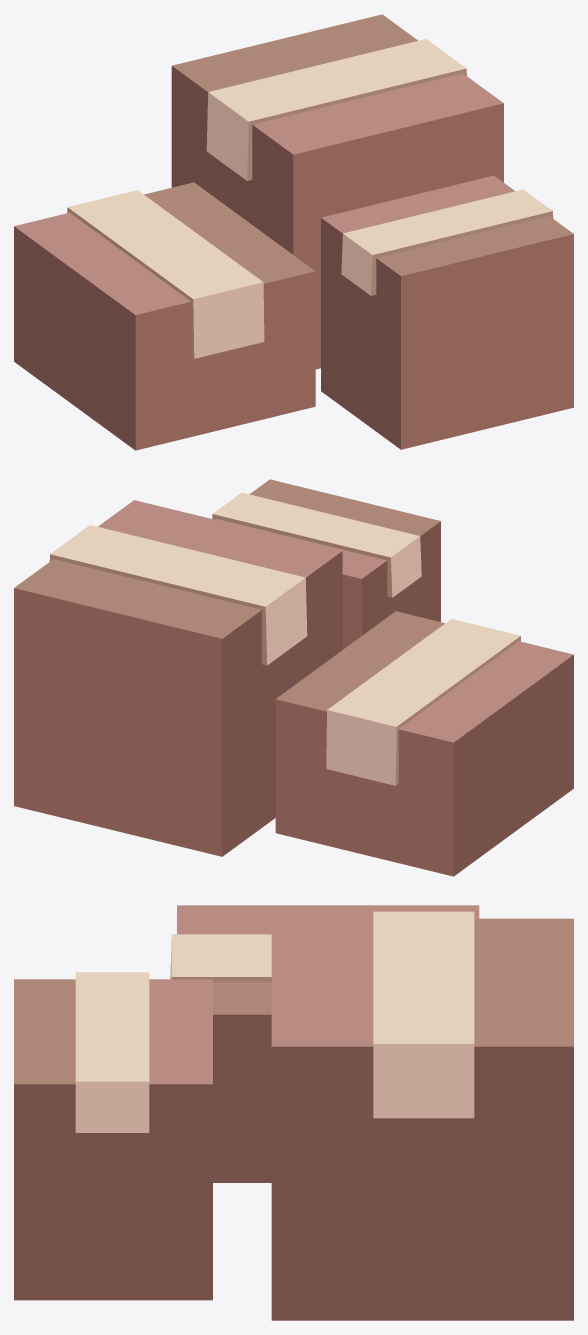
File: office-boxes-3.glb
3 renders of one model, top to bottom at view 1: azimuth 30°, elevation 25°; view 2: azimuth 150°, elevation 25°; view 3: azimuth 270°, elevation 25°, orthographic. The views are drawn at different scales.
Visible parts, largest first — view 1: Cube.010, Cube.011, Cube.009; view 2: Cube.009, Cube.010, Cube.011; view 3: Cube.009, Cube.011, Cube.010.
Part boxes in pixels (box(x1,y1,x2,y2)): Cube.010: box(14, 182, 315, 450); Cube.011: box(321, 175, 573, 449); Cube.009: box(171, 14, 503, 369); Cube.009: box(14, 500, 342, 856); Cube.010: box(275, 611, 573, 876); Cube.011: box(212, 479, 440, 649); Cube.009: box(271, 911, 573, 1320); Cube.011: box(14, 972, 212, 1300); Cube.010: box(170, 905, 479, 1182).
Size of the model in its own units: 1.74 by 0.9057 by 1.65.
Materials: 3 (3 with a texture image).
